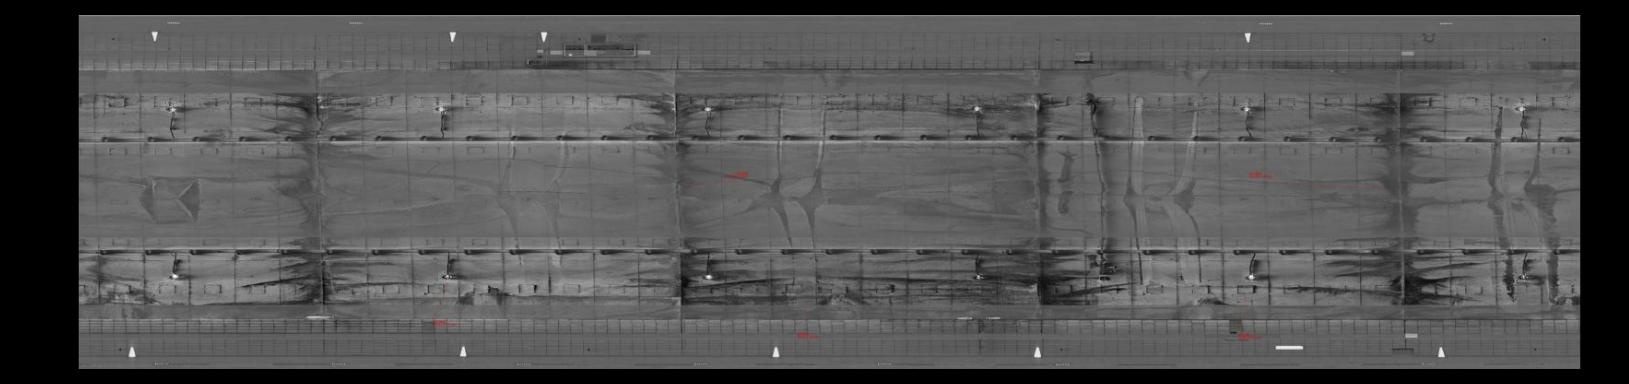light: (1234, 103, 1258, 116), (164, 270, 183, 285), (438, 270, 458, 283), (161, 101, 182, 113), (1241, 270, 1261, 282), (696, 103, 719, 113), (1512, 102, 1530, 114), (1515, 270, 1533, 282), (699, 271, 716, 283), (433, 103, 453, 113), (967, 104, 985, 114), (967, 273, 987, 281)
